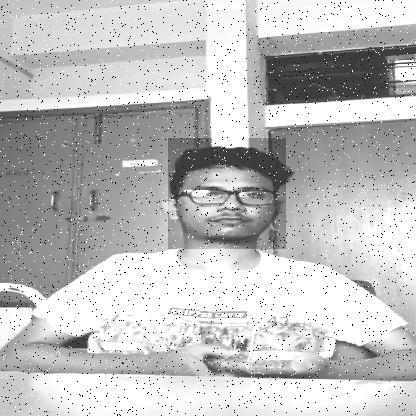Normal: (168, 138, 286, 249)
